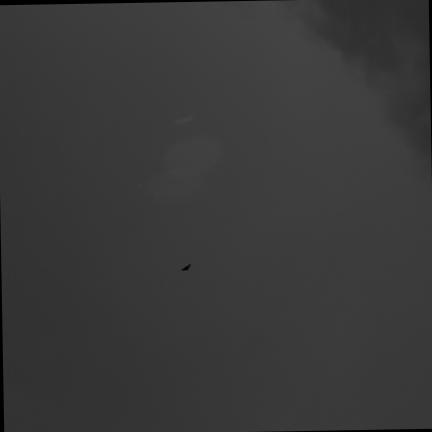Shahed: (181, 261, 191, 271)
